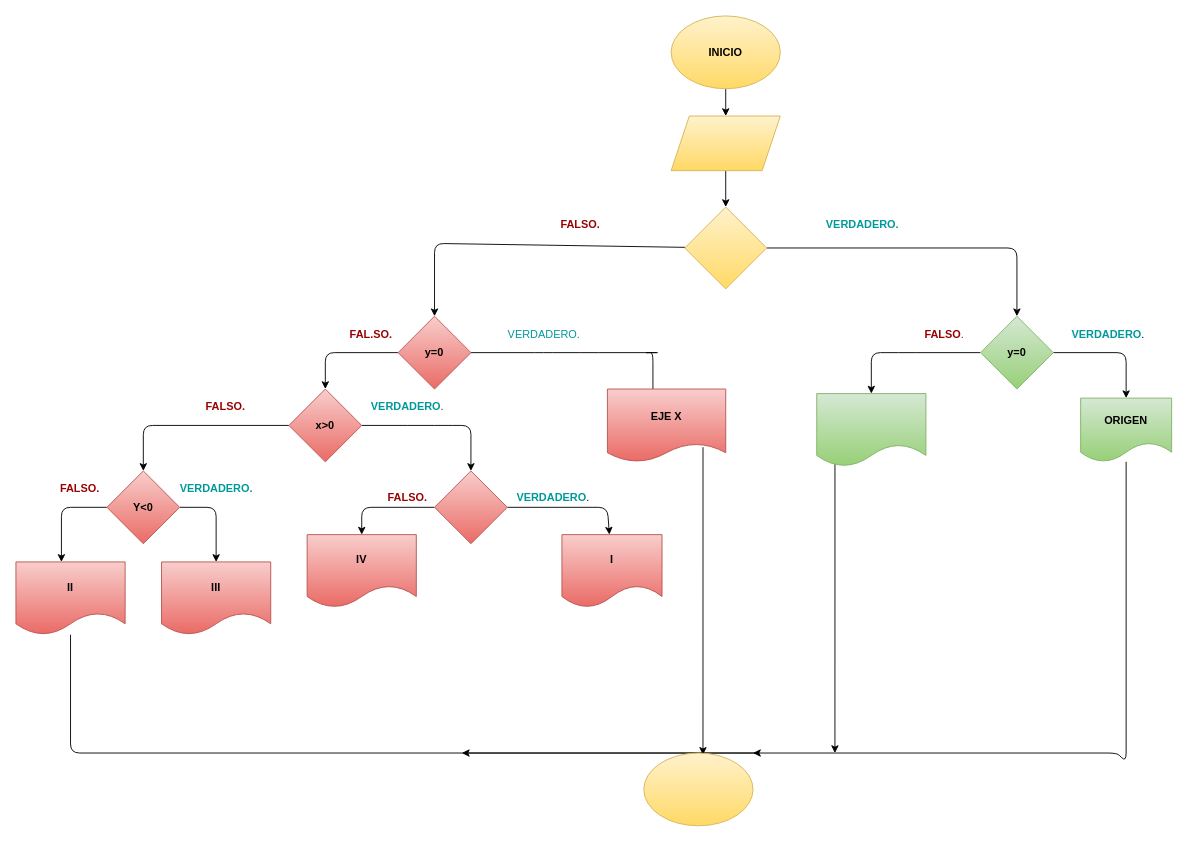
This 1188x842 diagram has some shape labels left out. Each missing label, with the box of its shape:
EJE Y: (816, 393, 926, 466)
FIN: (643, 752, 753, 826)
X,Y: (670, 115, 780, 171)
x==0: (684, 206, 767, 289)
y>0: (434, 470, 507, 544)
